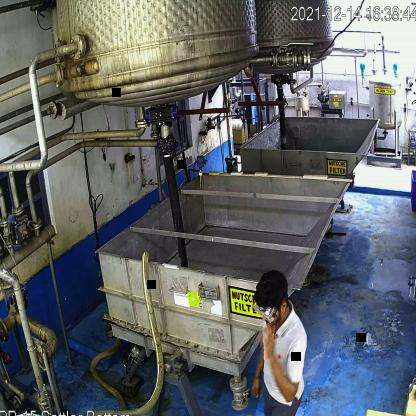goggles: (249, 298, 282, 327)
